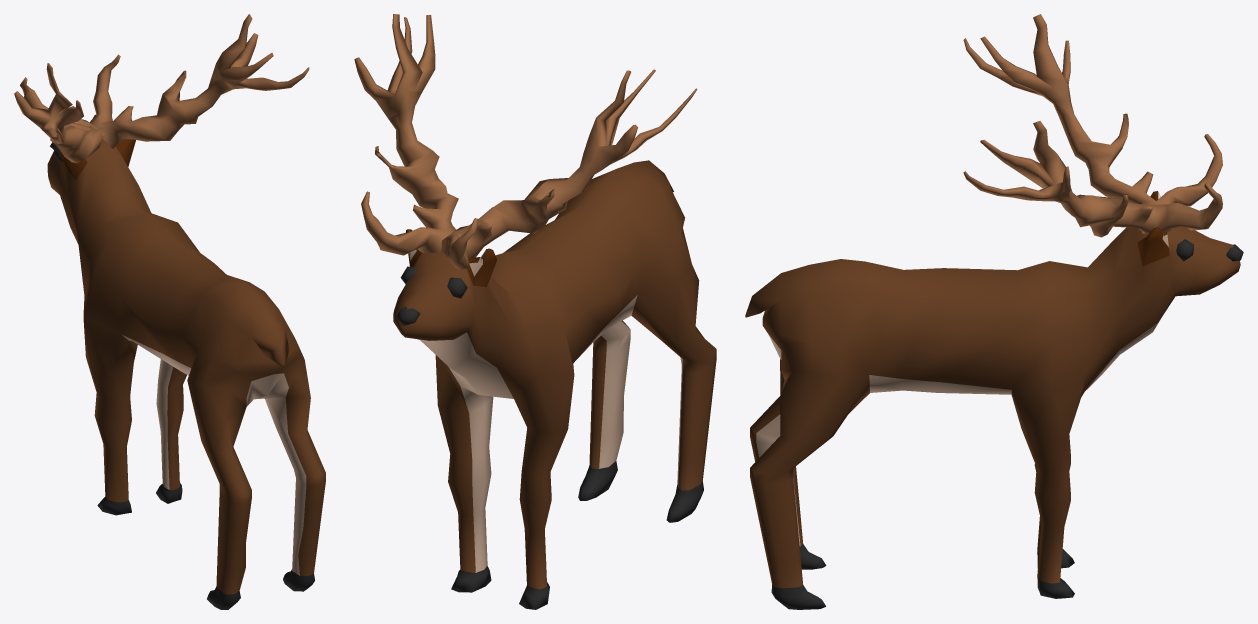
File: NOVELO_DEER.obj
3 renders of one model, left to right at view 1: azimuth 30°, elevation 25°; view 2: azimuth 150°, elevation 25°; view 3: azimuth 270°, elevation 25°, orthographic. The views are drawn at different scales.
Parts seen in each view (by area): view 1: Deer.1; view 2: Deer.1; view 3: Deer.1.
Part boxes in pixels (x1,y1,x2,y2): Deer.1: [14, 14, 325, 609]; Deer.1: [354, 14, 716, 609]; Deer.1: [745, 14, 1243, 609].
Bounding box in the file's own units: 228 × 411 × 358.
